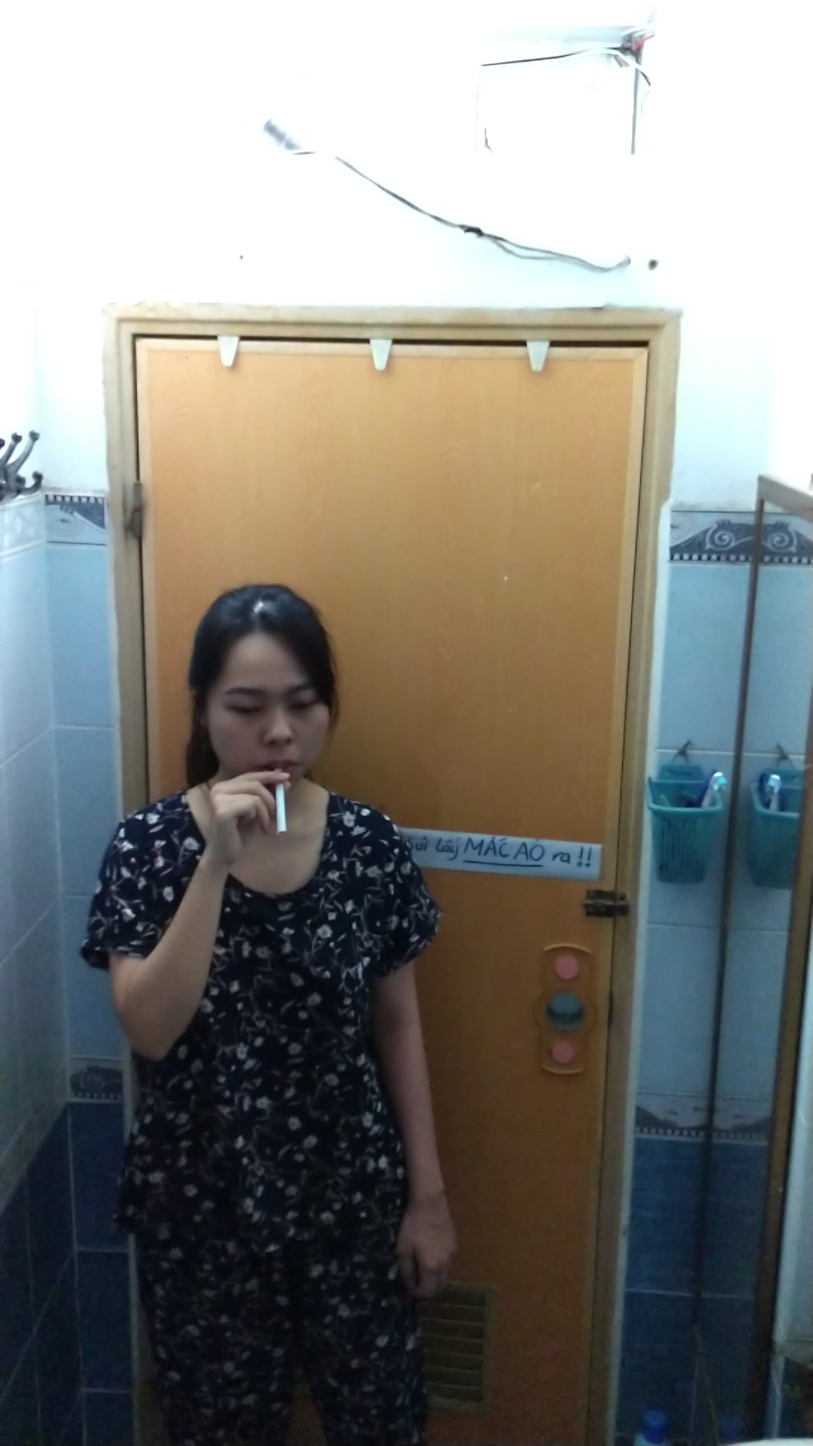cigarette: (272, 782, 291, 839)
person: (81, 585, 473, 1446)
